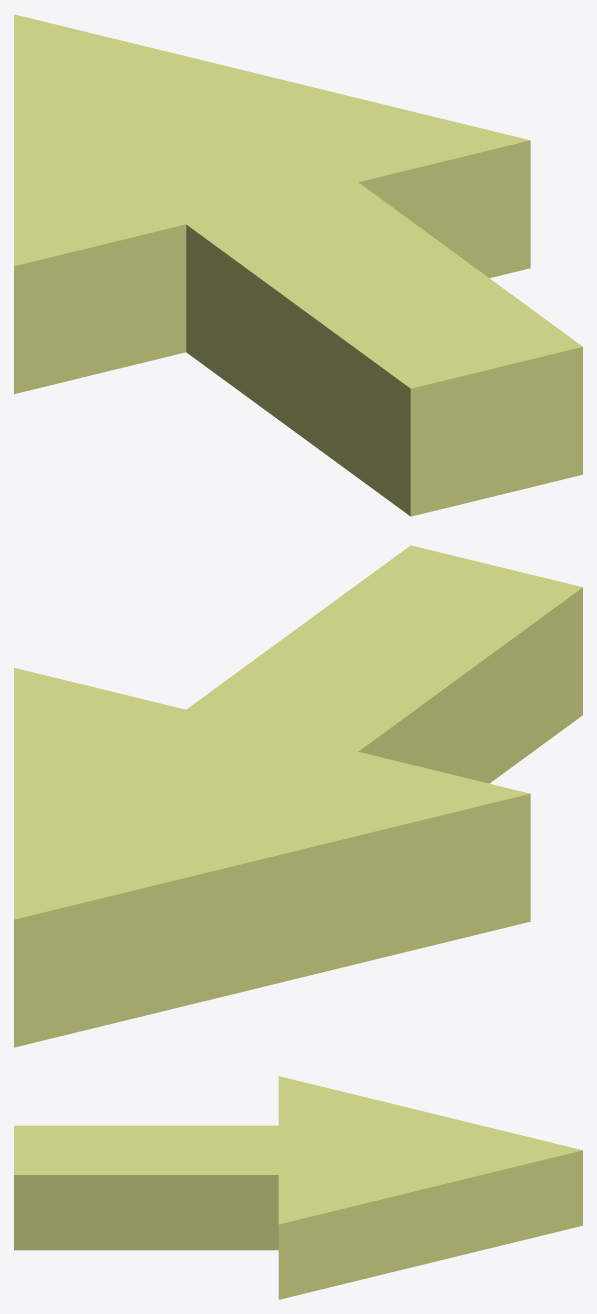
File: basic_arrow.fbx
The picture shows the model from 3 angles, top to bottom: view 1: azimuth 30°, elevation 25°; view 2: azimuth 150°, elevation 25°; view 3: azimuth 270°, elevation 25°; orthographic projection. The views are drawn at different scales.
Visible parts, largest first — view 1: Arrow; view 2: Arrow; view 3: Arrow.
Part boxes in pixels (left/top/right/bottom): Arrow: left=14, top=14, right=582, bottom=516; Arrow: left=14, top=545, right=582, bottom=1047; Arrow: left=14, top=1076, right=582, bottom=1299.
Size of the model in its own units: 1732 by 410 by 2805.
